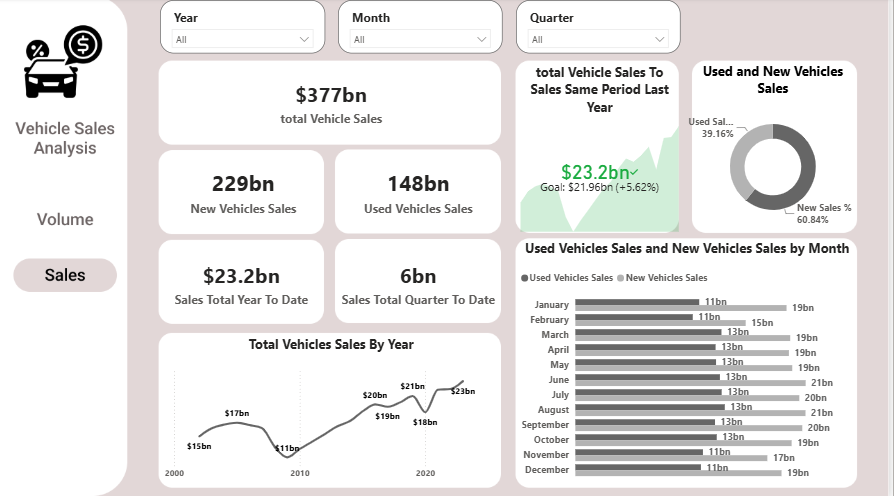

This screenshot's page, from the dashboard's own definition file:
{"tool":"powerbi","page":{"name":"Sales","canvas":[1280,720],"ordinal":1},"visuals":[{"type":"card","fields":{"Values":["Sales Measures.total Vehicle Sales"]},"box":[231.4,92.9,490,115.7],"z":0},{"type":"card","fields":{"Values":["Sales Measures.New Total Sales"]},"box":[231.4,221.4,237.1,112.9],"z":1000},{"type":"card","fields":{"Values":["Sales Measures.Used Total Sales"]},"box":[484.3,221.4,237.1,112.9],"z":2000},{"type":"donutChart","title":"Used and New Vehicles Sales","fields":{"Y":["Sales Measures.New Sales %","Sales Measures.Used Sales %"]},"box":[990,92.9,244.3,241.4],"z":3000},{"type":"kpi","title":"total Vehicle Sales To Sales Same Period Last Year ","fields":{"TrendLine":["DimDate.Year"],"Indicator":["Sales Measures.total Vehicle Sales"],"Goal":["Sales Measures.Sales Same Period Last Year"]},"box":[744,94,238,248],"z":4000},{"type":"slicer","fields":{"Values":["DimDate.Date.Variation.Date Hierarchy.Year"]},"box":[230.6,3.6,237.8,76.9],"z":5000},{"type":"slicer","fields":{"Values":["DimDate.Date.Variation.Date Hierarchy.Month"]},"box":[486.3,3.6,237,76.9],"z":6000},{"type":"slicer","fields":{"Values":["DimDate.Quarter"]},"box":[743.7,3.6,237,76.9],"z":7000},{"type":"lineChart","title":"Total Vehicles Sales By Year","fields":{"Y":["Sales Measures.total Vehicle Sales"],"Category":["DimDate.Year"]},"box":[231.4,485.7,490,217.1],"z":8000},{"type":"card","fields":{"Values":["Sales Measures.Sales Total Quarter To Date"]},"box":[484.3,347.1,237.1,127.1],"z":9000},{"type":"card","fields":{"Values":["Sales Measures.Sales Total Year To Date"]},"box":[231.4,347.1,231.4,127.1],"z":10000},{"type":"clusteredBarChart","fields":{"Y":["Sales Measures.Used Vehicles Sales","Sales Measures.New Vehicles Sales"],"Category":["DimDate.Month"]},"box":[744.3,347.1,490,355.7],"z":11000},{"type":"shape","box":[15.7,292.9,151.4,54.3],"z":12000}]}

Visuals, with their boxes in screenshot pixels (x1, y1, x2, y2), scaled from the page's 1280x720 canvas onto the 894x496 screenshot:
card - Sales Measures.total Vehicle Sales: detection(162, 64, 504, 144)
card - Sales Measures.New Total Sales: detection(162, 153, 327, 230)
card - Sales Measures.Used Total Sales: detection(338, 153, 504, 230)
"Used and New Vehicles Sales" donutChart: detection(691, 64, 862, 230)
"total Vehicle Sales To Sales Same Period Last Year " kpi: detection(520, 65, 686, 236)
slicer - DimDate.Date.Variation.Date Hierarchy.Year: detection(161, 2, 327, 55)
slicer - DimDate.Date.Variation.Date Hierarchy.Month: detection(340, 2, 505, 55)
slicer - DimDate.Quarter: detection(519, 2, 685, 55)
"Total Vehicles Sales By Year" lineChart: detection(162, 335, 504, 484)
card - Sales Measures.Sales Total Quarter To Date: detection(338, 239, 504, 327)
card - Sales Measures.Sales Total Year To Date: detection(162, 239, 323, 327)
clusteredBarChart - Sales Measures.Used Vehicles Sales x Sales Measures.New Vehicles Sales: detection(520, 239, 862, 484)
shape: detection(11, 202, 117, 239)
